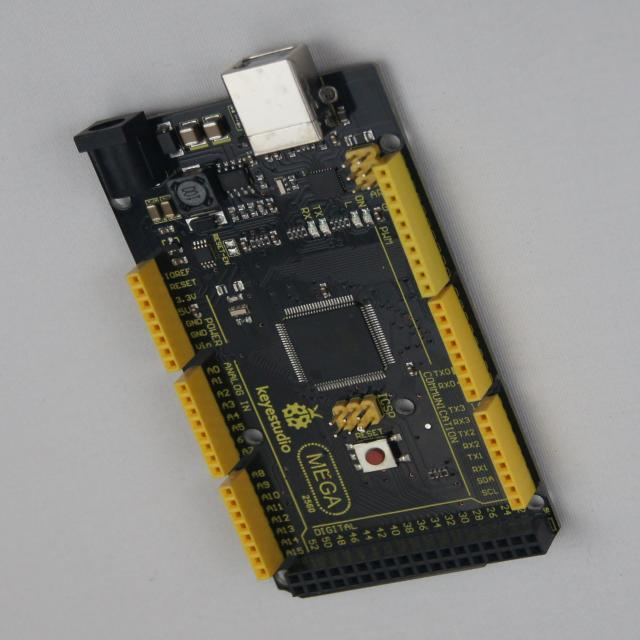Arduino Mega 2560 -Yellow-: (75, 48, 559, 597)
